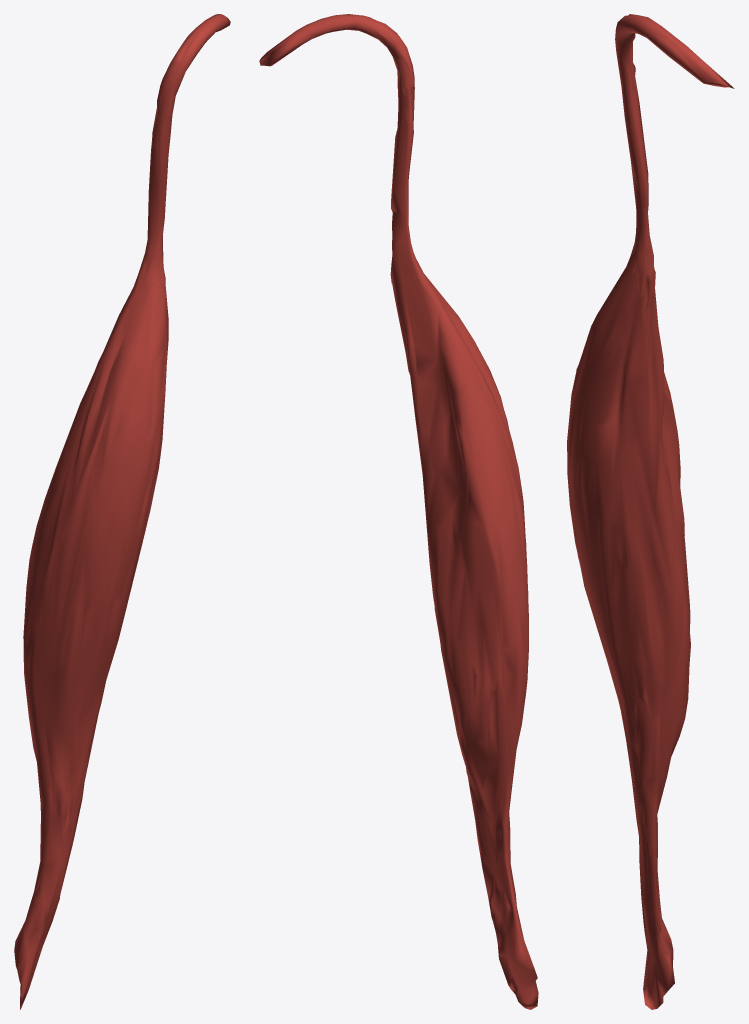
Rendered from musculos-long-head-of-biceps-brachii-r.glb.
The picture shows the model from 3 angles, left to right: view 1: azimuth 30°, elevation 25°; view 2: azimuth 150°, elevation 25°; view 3: azimuth 270°, elevation 25°; orthographic projection. The views are drawn at different scales.
Parts seen in each view (by area): view 1: Long head of biceps brachii.r; view 2: Long head of biceps brachii.r; view 3: Long head of biceps brachii.r.
Part boxes in pixels (<box>): Long head of biceps brachii.r: <box>14,14,230,1009</box>; Long head of biceps brachii.r: <box>259,14,538,1009</box>; Long head of biceps brachii.r: <box>567,14,734,1009</box>.
Bounding box in the file's own units: 0.0951 × 0.3571 × 0.0497.
